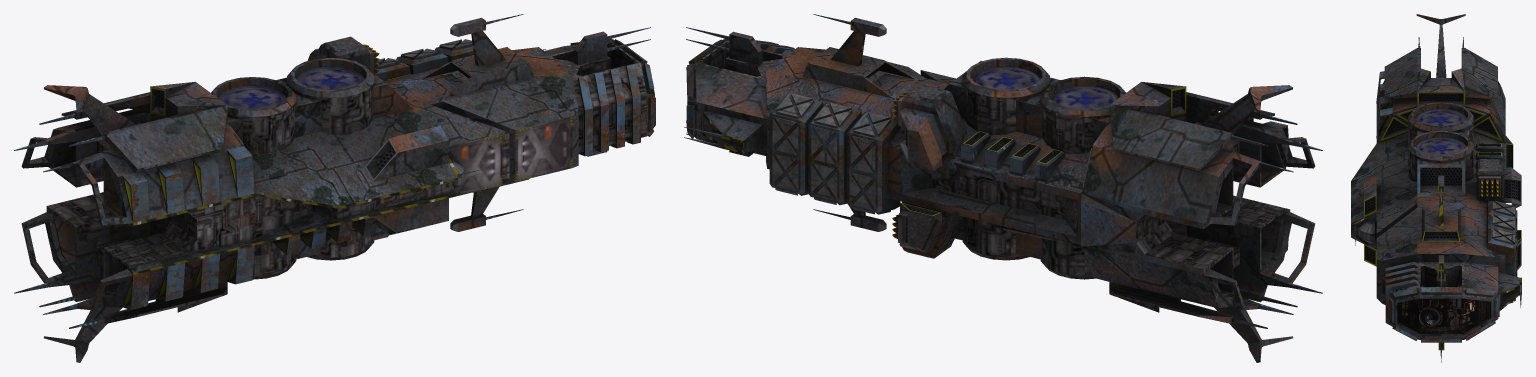
Rendered from Mothership.FBX.
3 views of the same model, side by side, from view 1: azimuth 30°, elevation 25°; view 2: azimuth 150°, elevation 25°; view 3: azimuth 270°, elevation 25° (orthographic). The views are drawn at different scales.
Parts seen in each view (by area): view 1: ship_hull; view 2: ship_hull; view 3: ship_hull.
Boxes of the visible parts, x1,y1,x2,y2 form: ship_hull: (14,14,655,362); ship_hull: (684,14,1322,362); ship_hull: (1351,14,1521,362).
Bounding box in the file's own units: 132 × 53.16 × 42.08.
1 material, 1 textured.
